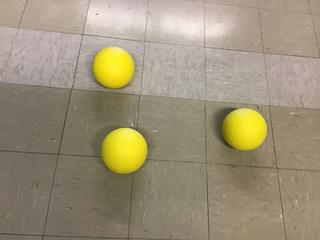power_cell: (100, 125, 151, 175), (221, 105, 270, 154), (90, 44, 138, 91)
